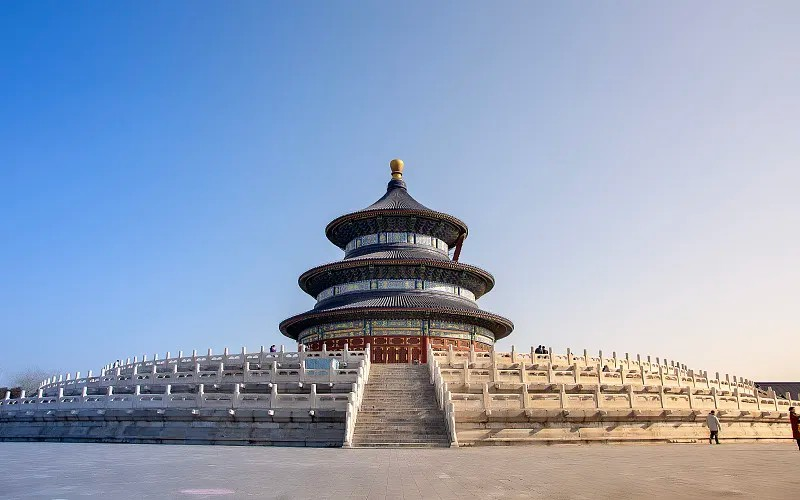Heaven: (278, 159, 517, 364)
